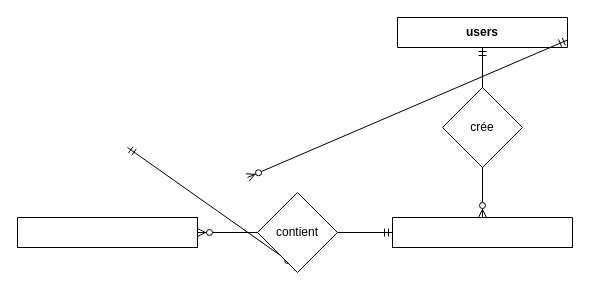
The diagram is 595 pixels wide and 294 high, and some of its shapes have lost their labels. Each missing label, with the centre of its shape:
event-recurrence: the point at 107,232
events: the point at 482,232
